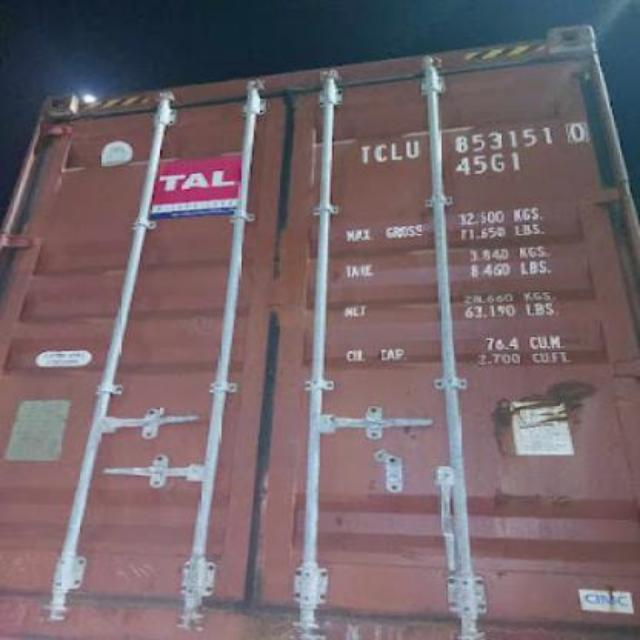0: (568, 122, 584, 140)
1: (540, 124, 556, 146), (504, 128, 520, 148)
3: (484, 126, 504, 150)
5: (468, 130, 486, 154), (520, 125, 538, 148)
8: (454, 134, 468, 154)
C: (372, 140, 388, 163)
L: (388, 140, 404, 162)
T: (356, 142, 374, 164)
U: (404, 140, 418, 160)
